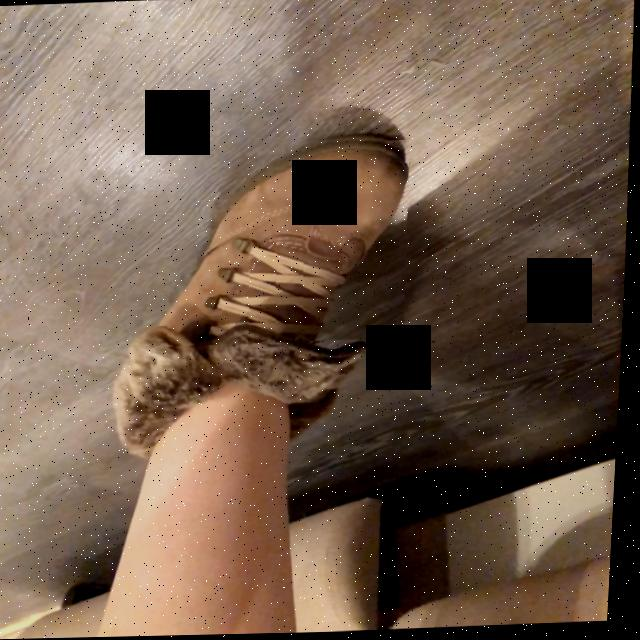shoe: (156, 140, 410, 346)
